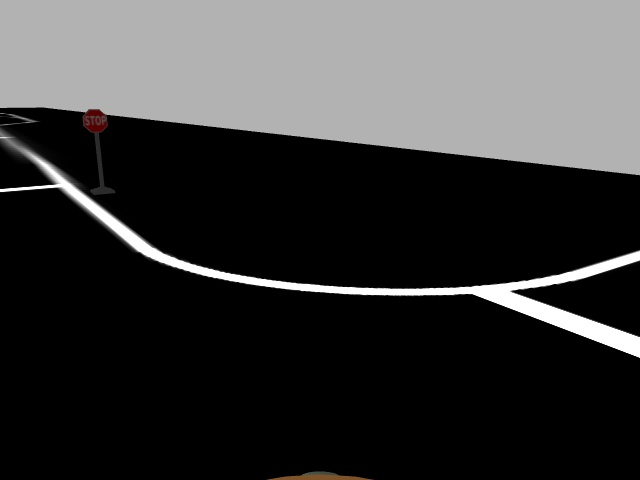stop: (80, 107, 110, 134)
